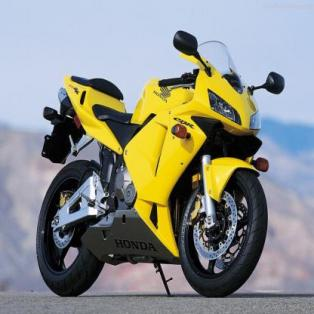Motocicleta: (33, 21, 288, 304)
